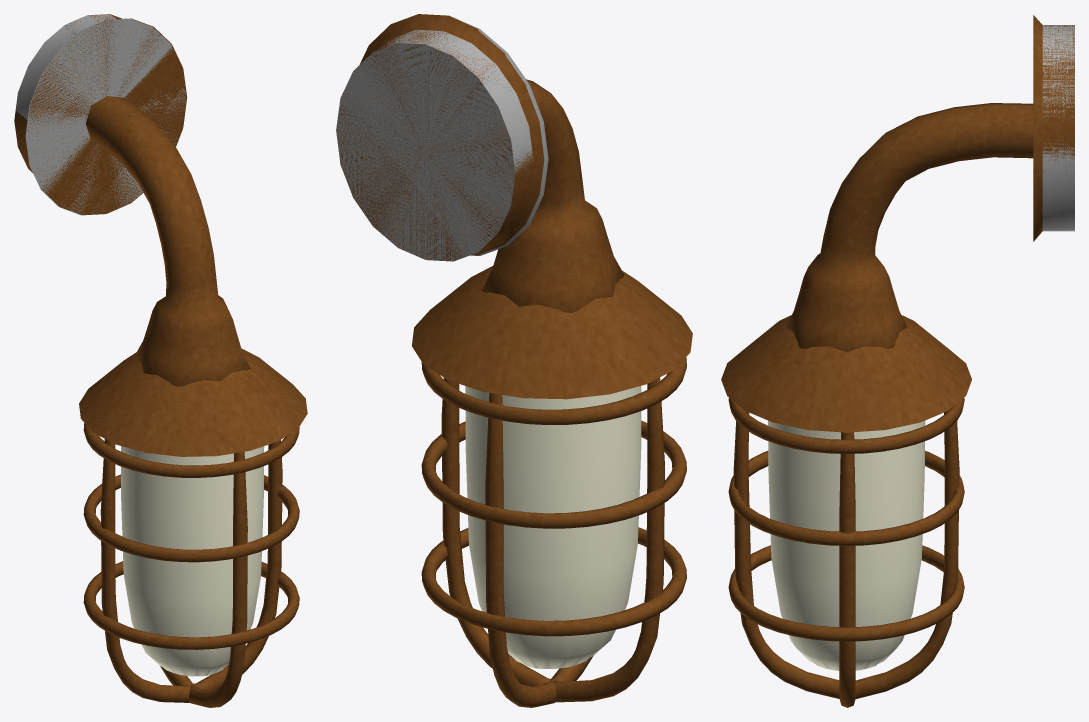
The model's file is lights.fbx.
3 renders of one model, left to right at view 1: azimuth 30°, elevation 25°; view 2: azimuth 150°, elevation 25°; view 3: azimuth 270°, elevation 25°, orthographic. The views are drawn at different scales.
Parts seen in each view (by area): view 1: polySurface17, polySurface8, polySurface6; view 2: polySurface17, polySurface6, polySurface8; view 3: polySurface17, polySurface8, polySurface6.
Boxes of the visible parts, box(x1,y1,x2,y2) form: polySurface17: box(14, 14, 307, 707); polySurface8: box(121, 446, 264, 676); polySurface6: box(15, 14, 185, 215); polySurface17: box(336, 14, 692, 707); polySurface6: box(336, 16, 548, 261); polySurface8: box(465, 386, 641, 668); polySurface17: box(721, 15, 1074, 707); polySurface8: box(768, 420, 925, 670); polySurface6: box(1033, 15, 1074, 231).
Size of the model in its own units: 1.06 by 3.14 by 1.49.
